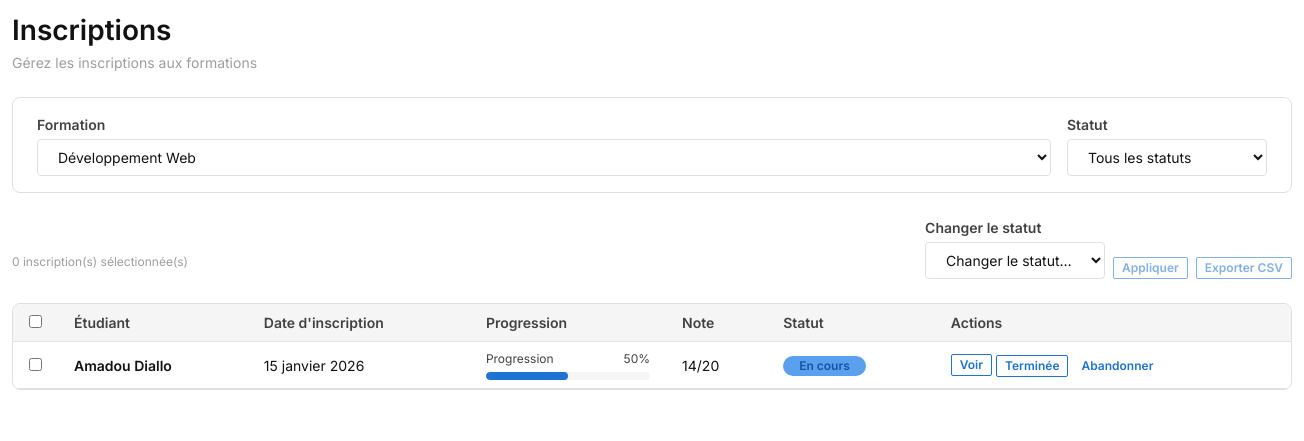
EnrollmentListComponent › should mark an enrollment as completed from the staff view
Click the button "Terminée": [1032, 366] box top-left (996, 355), bottom-right (1068, 377)
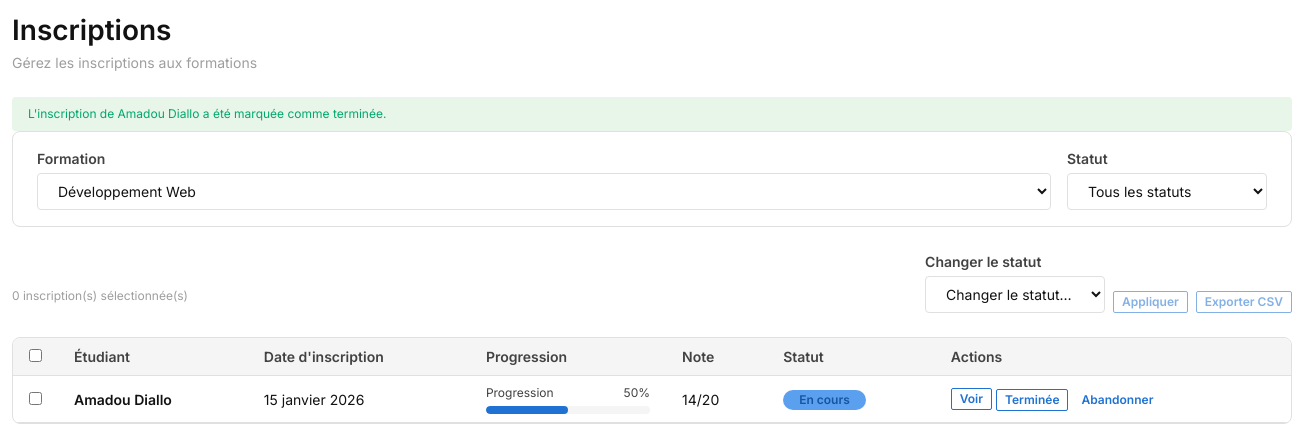
Check: the text "a été marquée comme terminée" is shown, box top-left (28, 106), bottom-right (386, 121)
